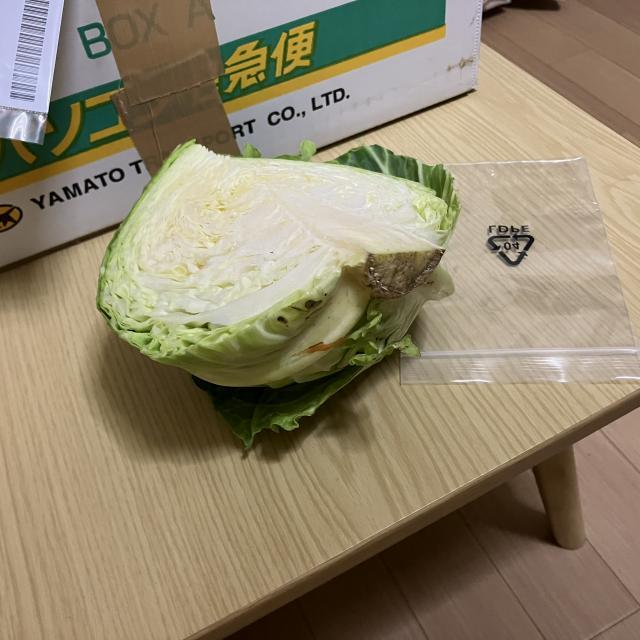cabbage: (98, 141, 465, 463)
